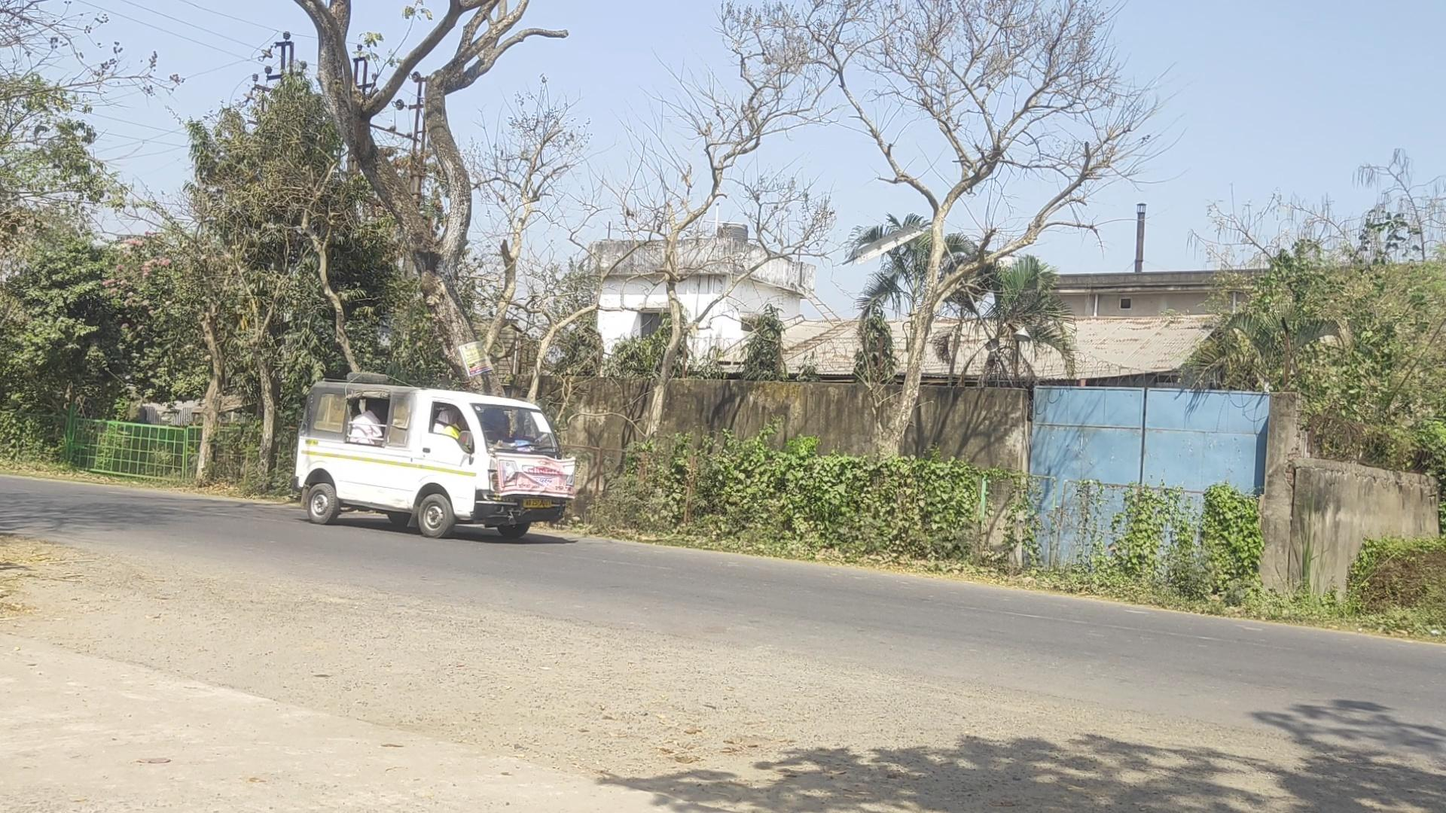van: (289, 371, 574, 540)
